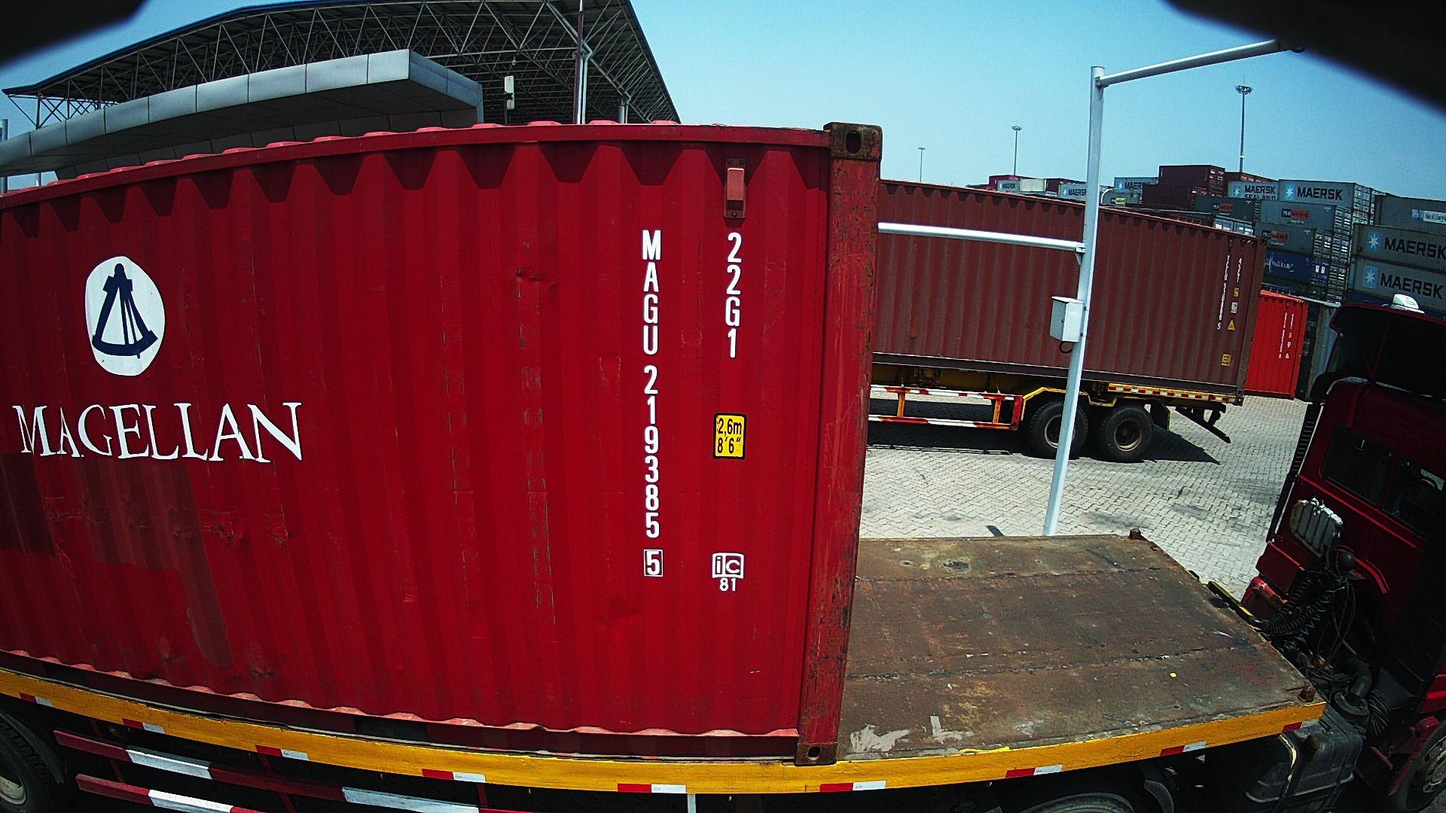container-numbers: (634, 227, 668, 586), (718, 229, 747, 362)
